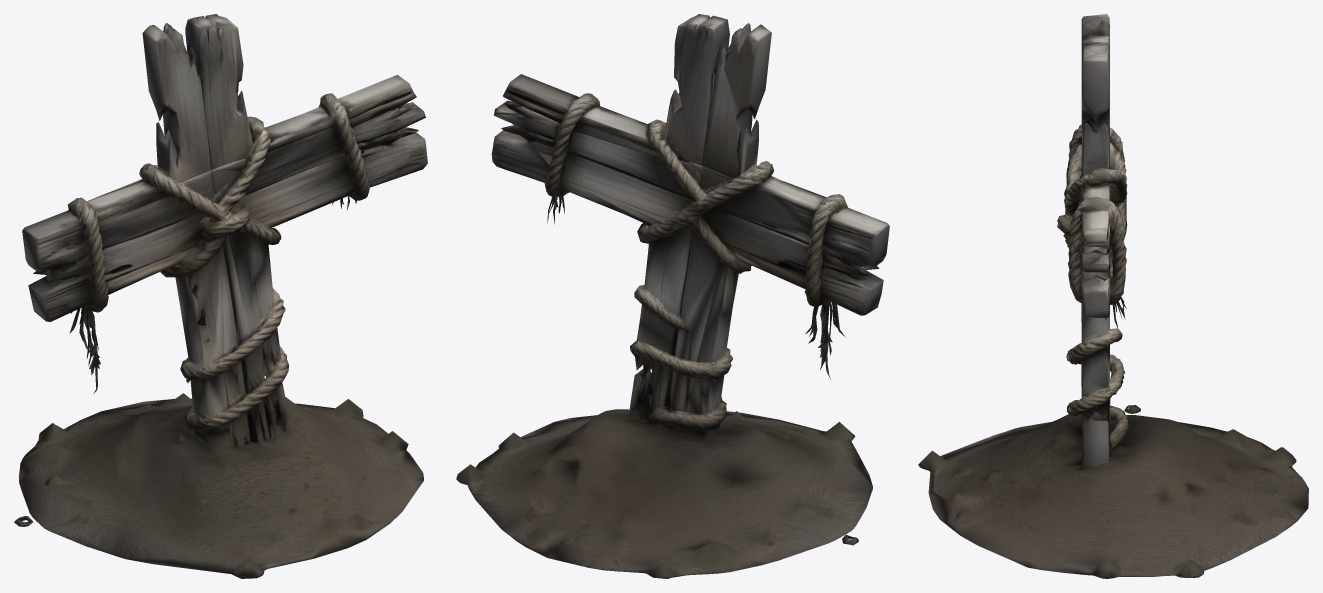
Rendered from Woodengravemarker1.opt.glb.
3 renders of one model, left to right at view 1: azimuth 30°, elevation 25°; view 2: azimuth 150°, elevation 25°; view 3: azimuth 270°, elevation 25°, orthographic. The views are drawn at different scales.
Visible parts, largest first — view 1: node_0; view 2: node_0; view 3: node_0.
Part boxes in pixels (<box>): node_0: <box>14,14,427,578</box>; node_0: <box>456,14,889,578</box>; node_0: <box>918,14,1308,578</box>.
Size of the model in its own units: 0.7956 by 0.9629 by 0.7316.
Materials: 1 (1 with a texture image).
